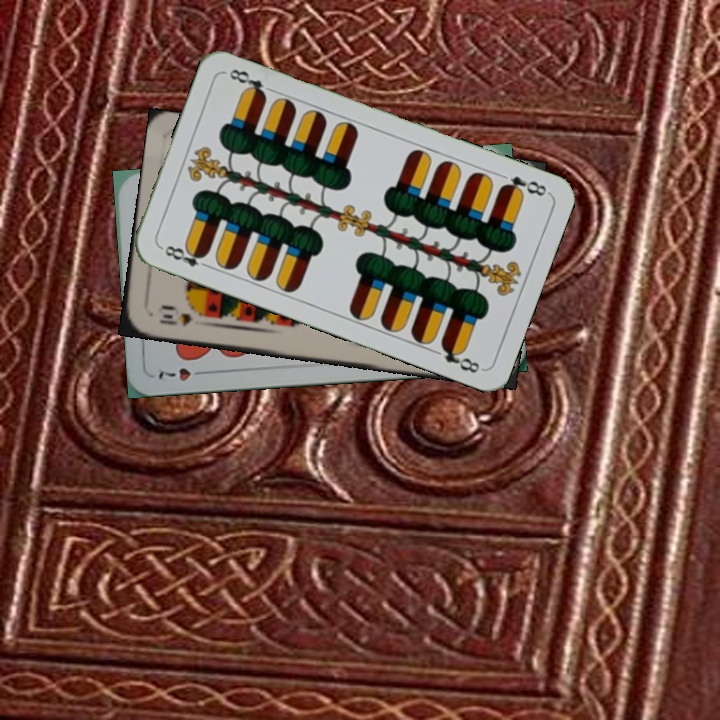E8: (156, 241, 213, 271), (497, 172, 551, 200)
H7: (154, 364, 210, 384)
S10: (154, 304, 195, 329)
